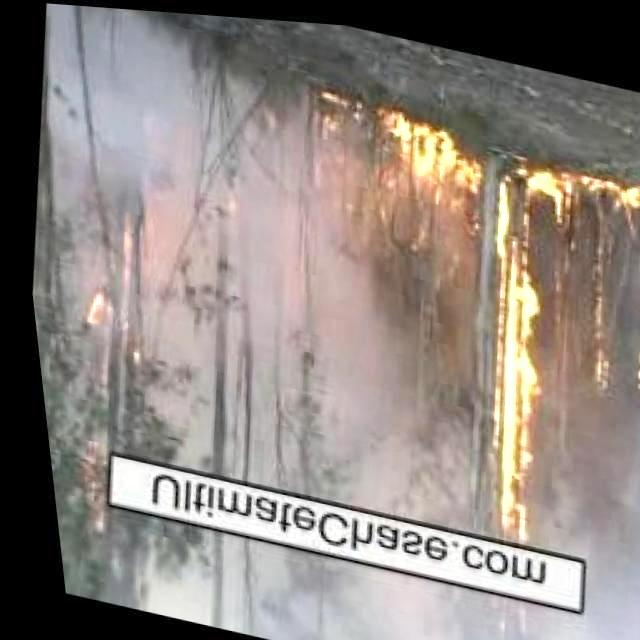fire: (443, 200, 569, 576), (364, 108, 640, 245), (45, 398, 137, 554), (565, 259, 627, 395), (64, 282, 112, 348)
